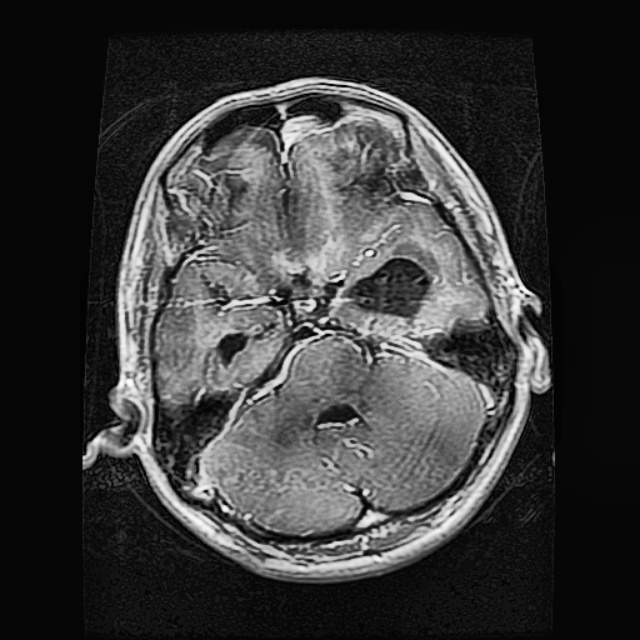Glioma: (343, 254, 430, 319)
